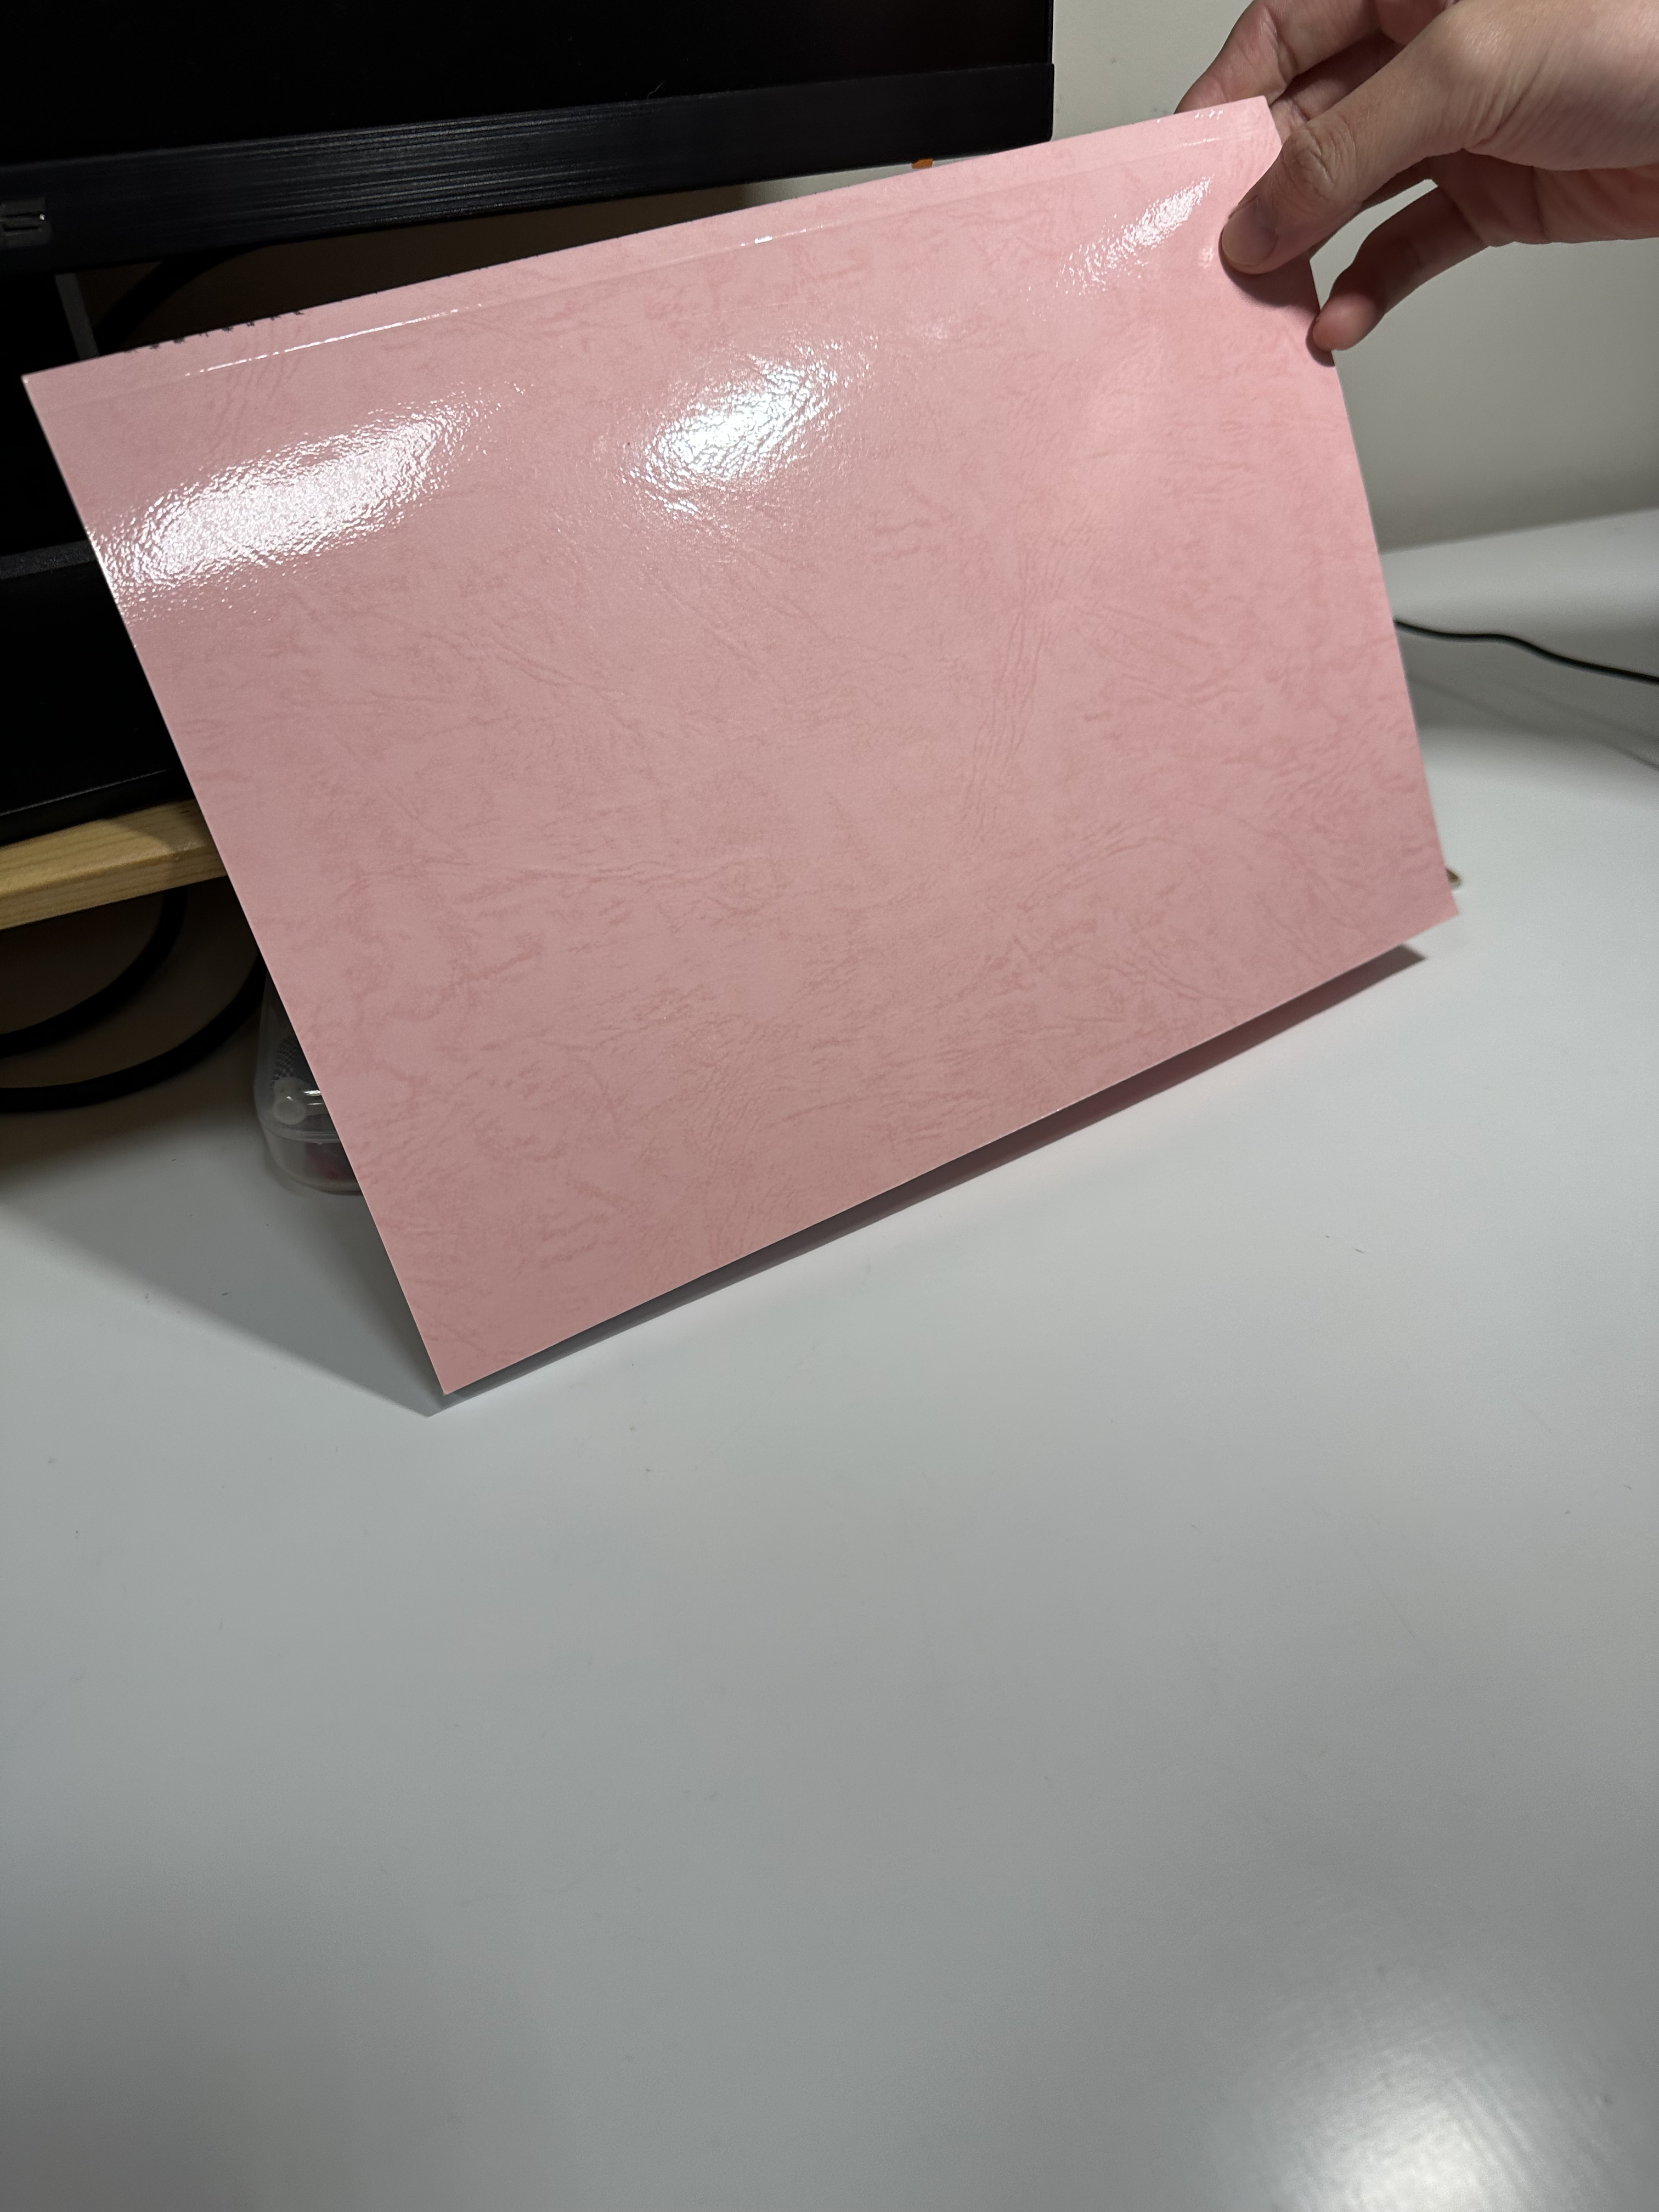book: (24, 89, 1460, 1399)
